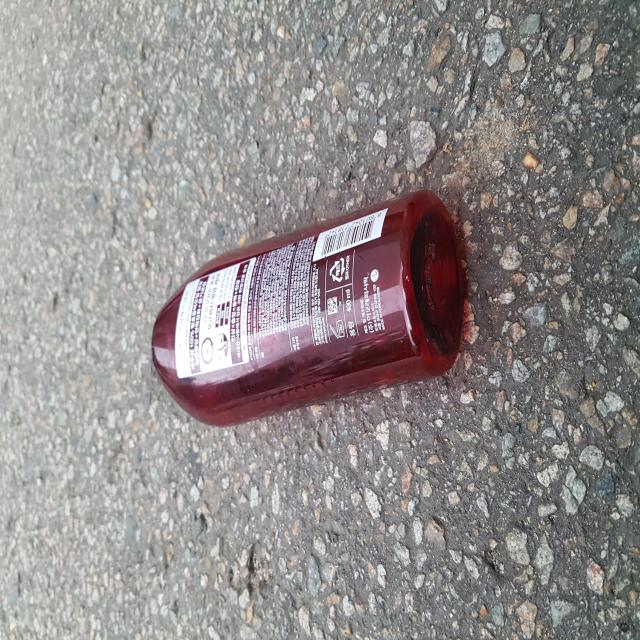bottle: (146, 133, 467, 424)
